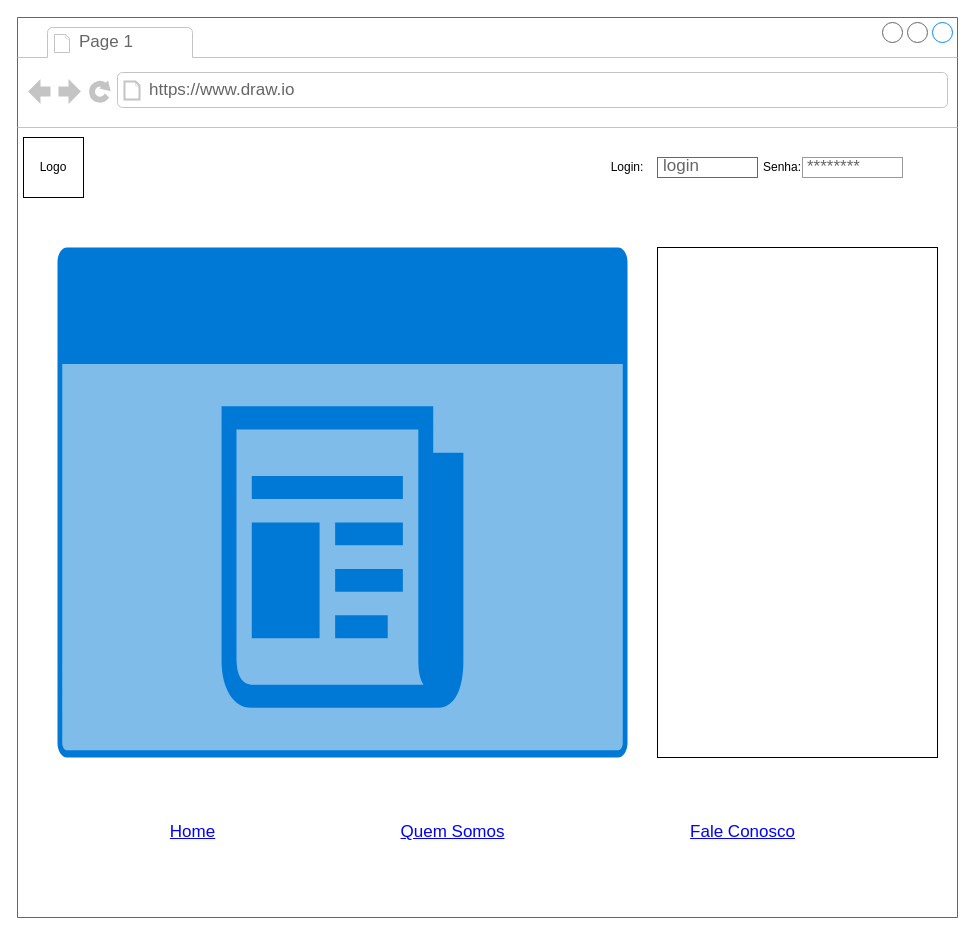
The diagram is 975 pixels wide and 935 high, and some of its shapes have lost their labels. The shapes that lost their labels are listed below. From the top down, each one's centre as x and y in pixels, then its label:
the point at 342,502: Links de noticias de outros sites
the point at 797,502: Promoções de jogos encontradas
